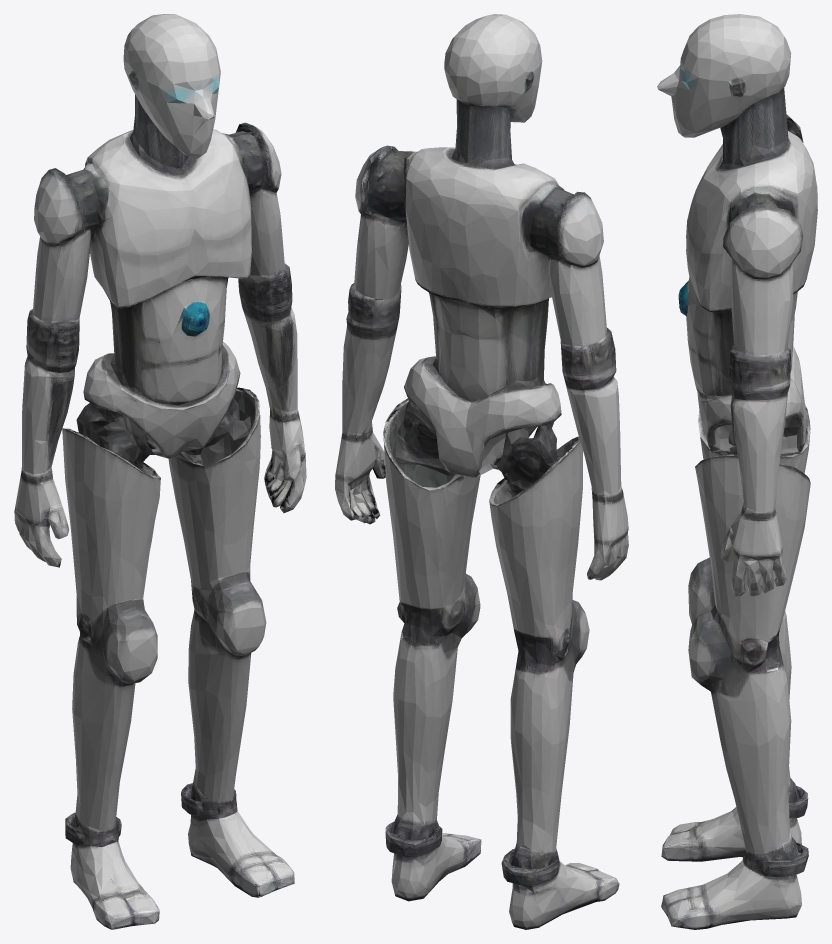
Rendered from robot-full.glb.
3 renders of one model, left to right at view 1: azimuth 30°, elevation 25°; view 2: azimuth 150°, elevation 25°; view 3: azimuth 270°, elevation 25°, orthographic.
Visible parts, largest first — view 1: geometry_0; view 2: geometry_0; view 3: geometry_0.
Boxes of the visible parts, bbox=[...] form: geometry_0: bbox=[14, 14, 306, 929]; geometry_0: bbox=[335, 14, 628, 929]; geometry_0: bbox=[657, 14, 817, 929].
Bounding box in the file's own units: 0.3346 × 1 × 0.168.
Materials: 1 (1 with a texture image).
